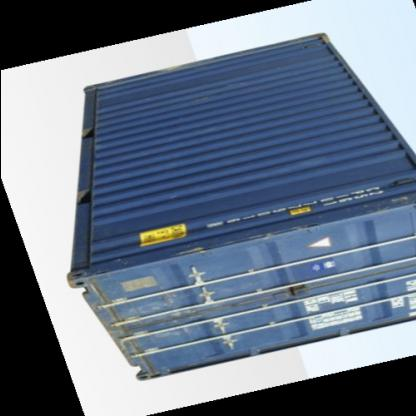Damage: (120, 292, 206, 353), (176, 232, 314, 258), (291, 36, 319, 56)
